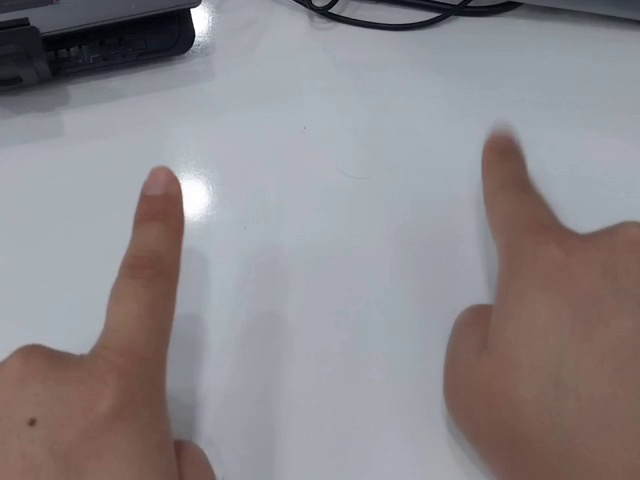fingers: (136, 165, 185, 221), (480, 129, 529, 178)
